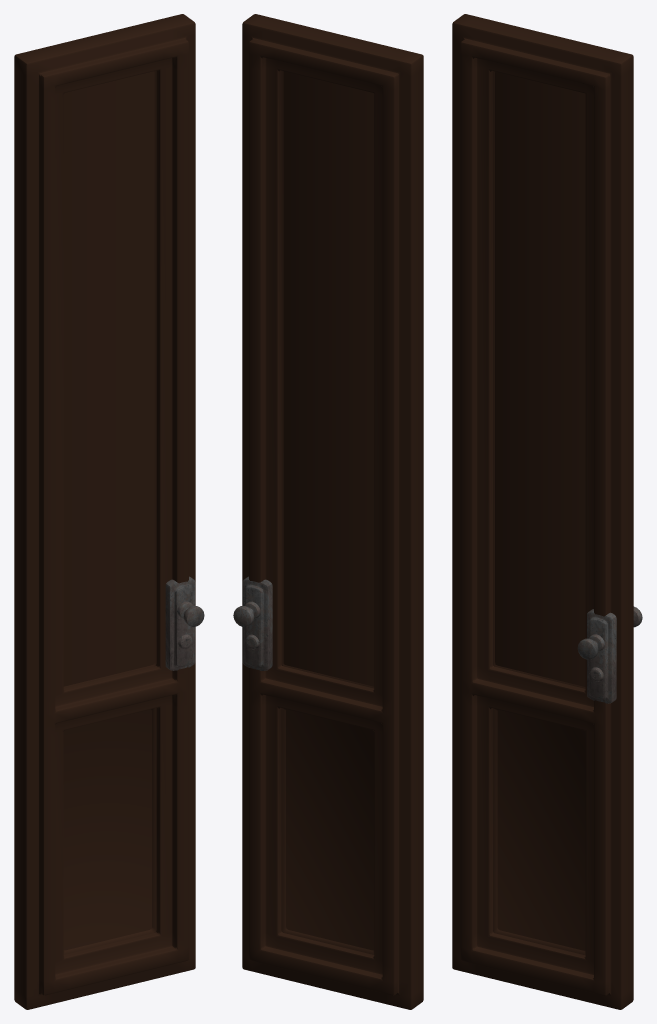
File: SK5 DOOR A.fbx
3 views of the same model, side by side, from view 1: azimuth 30°, elevation 25°; view 2: azimuth 150°, elevation 25°; view 3: azimuth 330°, elevation 25° (orthographic).
Parts seen in each view (by area): view 1: SK5 DOOR A; view 2: SK5 DOOR A; view 3: SK5 DOOR A.
Boxes of the visible parts, <box> form: SK5 DOOR A: <box>14,14,204,1009</box>; SK5 DOOR A: <box>233,14,423,1009</box>; SK5 DOOR A: <box>452,14,642,1009</box>.
Size of the model in its own units: 43.1 by 230 by 21.5.
